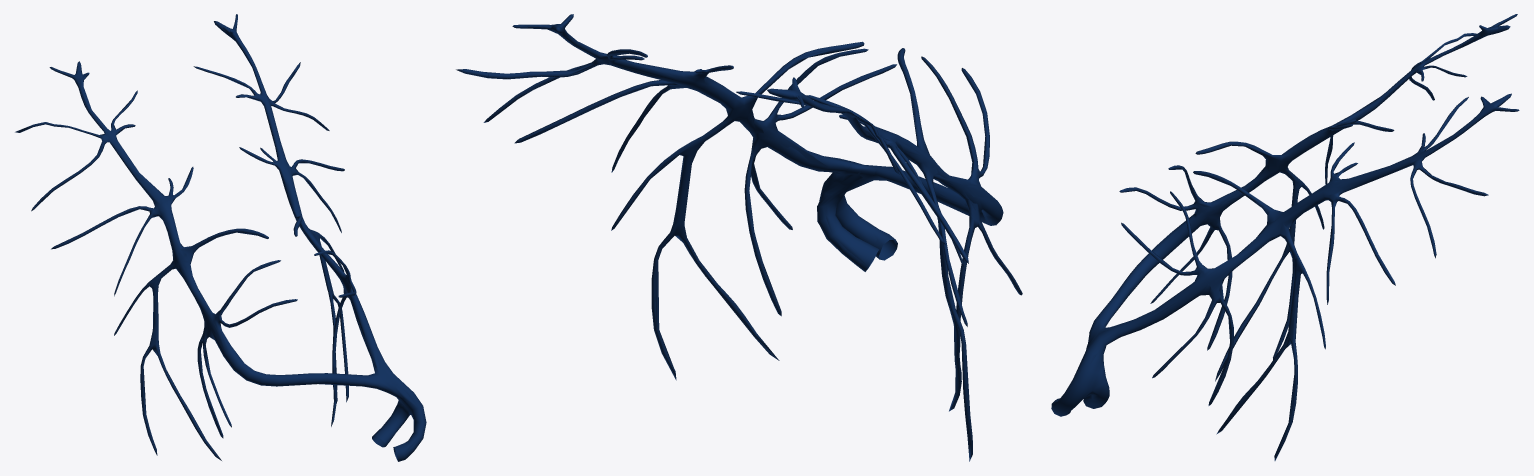
Rendered from venae pulmonales.fbx.
The picture shows the model from 3 angles, left to right: view 1: azimuth 30°, elevation 25°; view 2: azimuth 150°, elevation 25°; view 3: azimuth 270°, elevation 25°; orthographic projection. The views are drawn at different scales.
Visible parts, largest first — view 1: venae pulmonales, venae pulmonales low; view 2: venae pulmonales, venae pulmonales low; view 3: venae pulmonales, venae pulmonales low.
Part boxes in pixels (x1,y1,x2,y2): venae pulmonales: (16,14,426,461); venae pulmonales low: (15,17,424,460); venae pulmonales: (456,14,1022,460); venae pulmonales low: (485,16,1002,461); venae pulmonales: (1051,14,1519,460); venae pulmonales low: (1052,15,1516,460).
Size of the model in its own units: 23.51 by 23.88 by 28.07.
